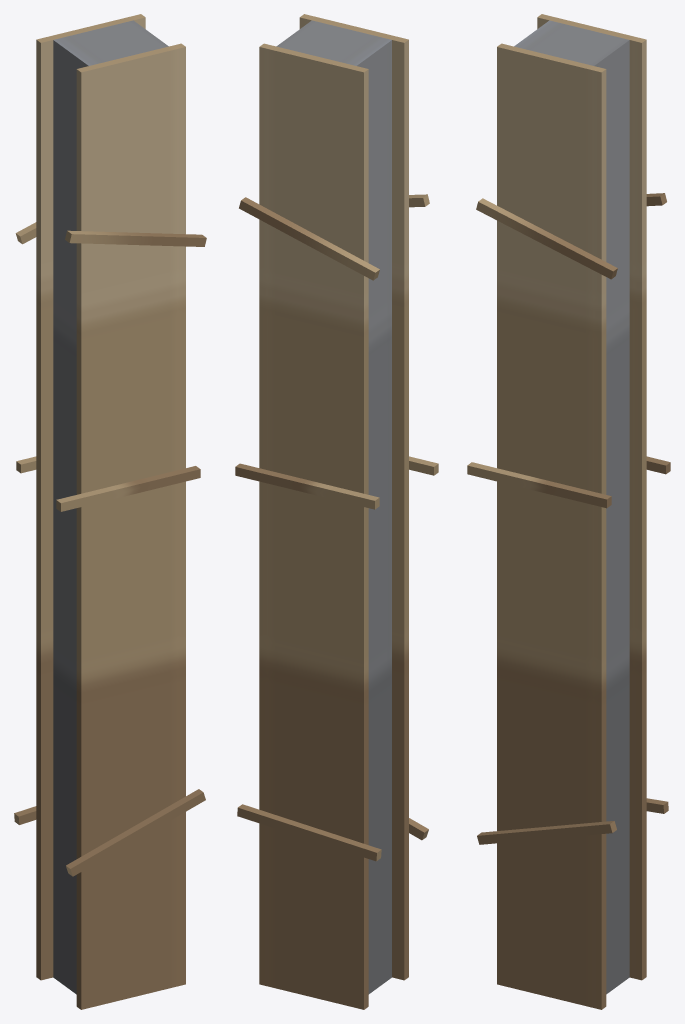
Rendered from Concrete_Pillar_04.fbx.
3 renders of one model, left to right at view 1: azimuth 30°, elevation 25°; view 2: azimuth 150°, elevation 25°; view 3: azimuth 330°, elevation 25°, orthographic.
Visible parts, largest first — view 1: Concrete_Pillar_04; view 2: Concrete_Pillar_04; view 3: Concrete_Pillar_04.
Boxes of the visible parts, <box> form: Concrete_Pillar_04: <box>14,14,206,1009</box>; Concrete_Pillar_04: <box>235,14,438,1009</box>; Concrete_Pillar_04: <box>467,14,670,1009</box>.
Size of the model in its own units: 48.31 by 290 by 30.39.
